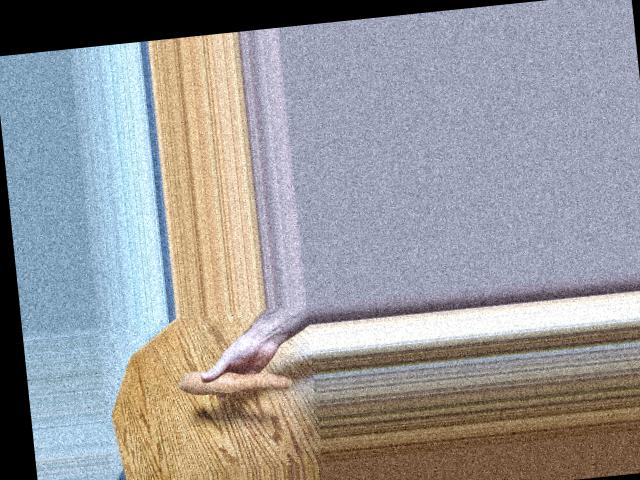sweet_potato: (180, 365, 297, 402)
